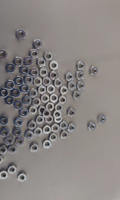nut: (15, 29, 27, 40), (32, 39, 43, 50), (23, 94, 33, 106), (20, 83, 30, 95), (17, 172, 27, 183), (5, 64, 16, 74), (13, 56, 23, 67), (14, 118, 24, 129), (12, 128, 22, 139), (39, 67, 49, 78), (76, 80, 86, 91), (59, 94, 68, 106), (7, 165, 17, 175), (30, 68, 40, 78), (0, 128, 10, 138), (4, 137, 14, 147), (5, 96, 15, 106), (10, 88, 20, 98), (15, 76, 25, 86), (33, 77, 43, 87), (76, 71, 86, 81), (53, 110, 63, 120), (35, 116, 45, 126), (54, 113, 64, 123), (30, 49, 39, 60), (0, 88, 9, 99), (50, 60, 59, 71), (25, 130, 34, 141), (43, 139, 52, 150), (14, 100, 23, 111), (29, 88, 38, 99), (25, 75, 34, 86), (50, 93, 59, 104), (72, 91, 83, 100), (46, 115, 55, 126), (0, 171, 9, 181), (88, 122, 97, 132), (98, 115, 107, 125), (67, 108, 76, 118), (90, 66, 99, 76), (76, 62, 85, 72), (0, 116, 9, 126), (65, 72, 74, 82), (37, 58, 46, 68), (34, 127, 43, 137), (28, 121, 37, 131), (5, 80, 15, 89), (49, 71, 59, 80), (41, 94, 51, 103), (38, 106, 47, 116), (32, 98, 42, 107), (68, 81, 77, 91), (43, 77, 52, 87), (0, 145, 8, 156), (52, 123, 60, 134), (61, 86, 69, 97), (44, 52, 53, 61), (15, 138, 24, 147), (43, 126, 52, 135), (47, 85, 56, 94), (25, 56, 33, 66), (31, 144, 39, 154), (9, 145, 17, 155), (19, 109, 29, 117), (50, 133, 58, 143), (29, 106, 37, 116), (0, 49, 7, 60), (69, 123, 76, 134), (61, 131, 69, 140), (61, 122, 69, 131), (39, 85, 46, 95), (44, 109, 51, 119), (46, 103, 54, 111), (56, 105, 64, 111), (0, 155, 4, 165)
